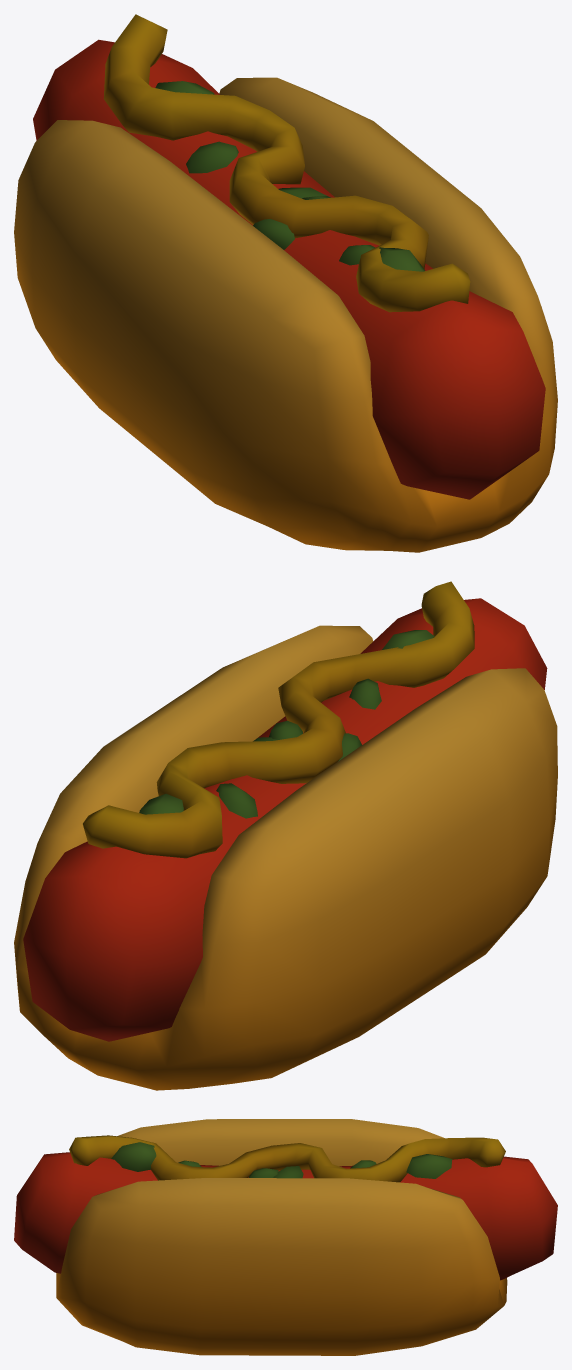
The model's file is hotdog.glb.
3 views of the same model, one above another, from view 1: azimuth 30°, elevation 25°; view 2: azimuth 150°, elevation 25°; view 3: azimuth 270°, elevation 25° (orthographic). The views are drawn at different scales.
Parts seen in each view (by area): view 1: geometry_0; view 2: geometry_0; view 3: geometry_0.
Boxes of the visible parts, x1,y1,x2,y2 form: geometry_0: [14, 14, 557, 552]; geometry_0: [14, 581, 557, 1090]; geometry_0: [14, 1119, 557, 1355].
Size of the model in its own units: 0.0969 by 0.0908 by 0.2243.
1 material, 1 textured.
